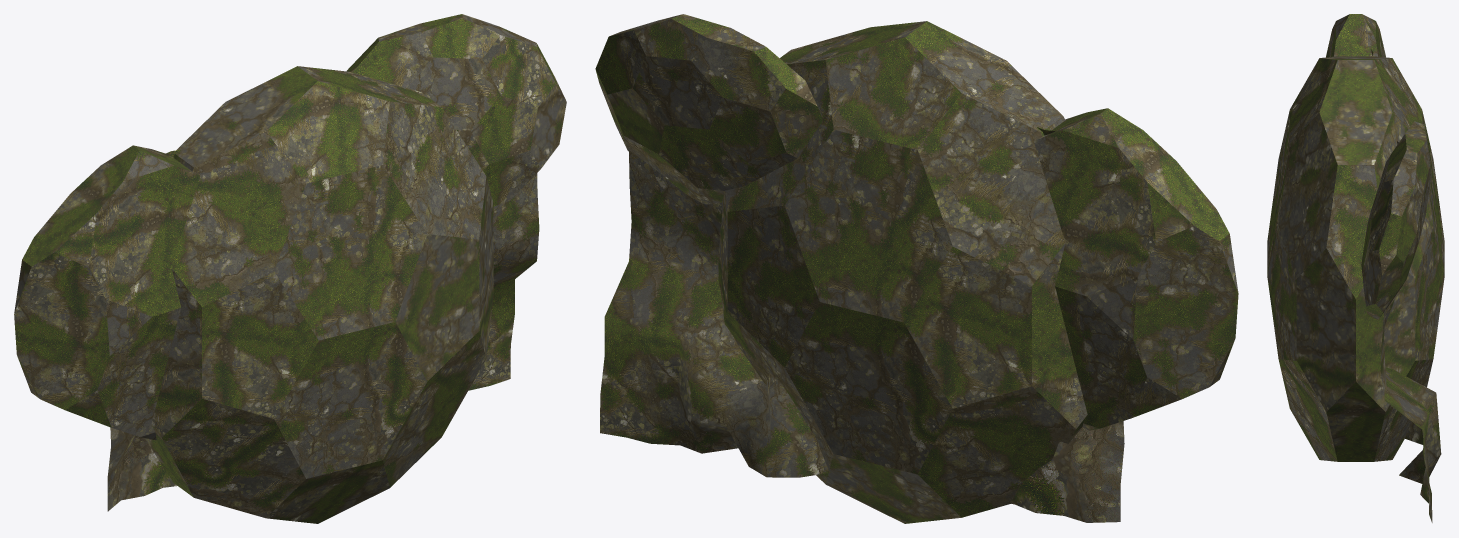
File: mur_a_voir_comment_ca_rend.fbx
The picture shows the model from 3 angles, left to right: view 1: azimuth 30°, elevation 25°; view 2: azimuth 150°, elevation 25°; view 3: azimuth 270°, elevation 25°; orthographic projection. The views are drawn at different scales.
Visible parts, largest first — view 1: Plane004; view 2: Plane004; view 3: Plane004.
Boxes of the visible parts, box(x1,y1,x2,y2) form: Plane004: box(14, 14, 566, 523); Plane004: box(595, 14, 1238, 523); Plane004: box(1267, 14, 1444, 522).
Size of the model in its own units: 887 by 662 by 267.
